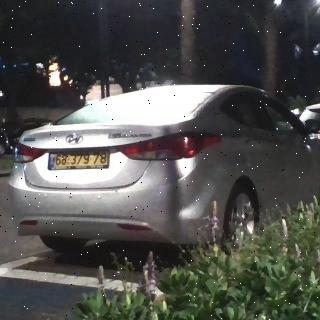LicensePlate: (55, 150, 108, 167)
